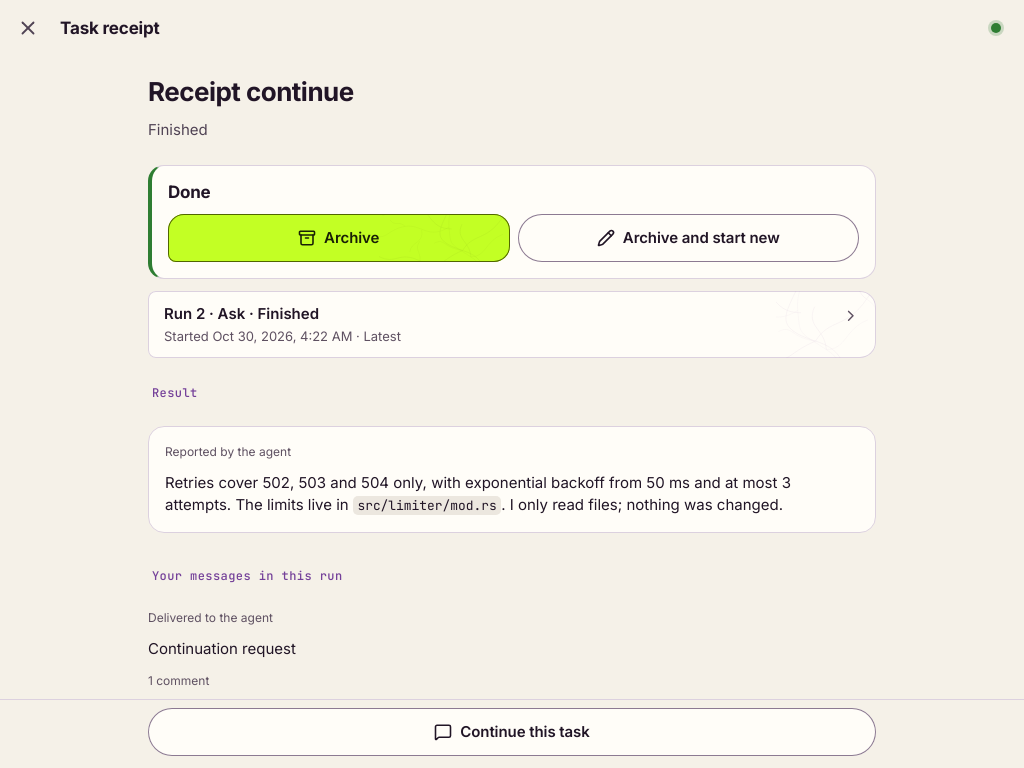
Test case: keeps the annotated request for continue in its own run receipt
This screenshot has width=1024, height=768.
Expected: the text "Continuation request" is shown, x1=148 y1=639 x2=296 y2=658
Click the button with aria-label "Choose a run: showing ": (242, 314) x1=148 y1=291 x2=876 y2=358
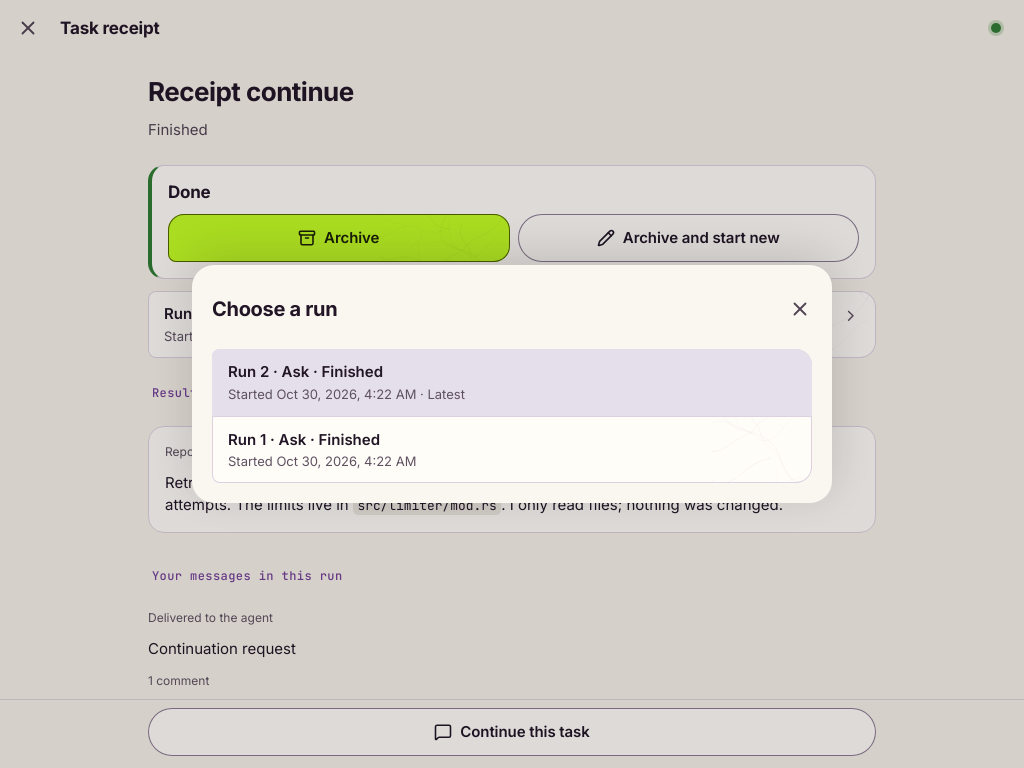
Click the button with aria-label "Run 1, ": (304, 439) x1=212 y1=416 x2=812 y2=483
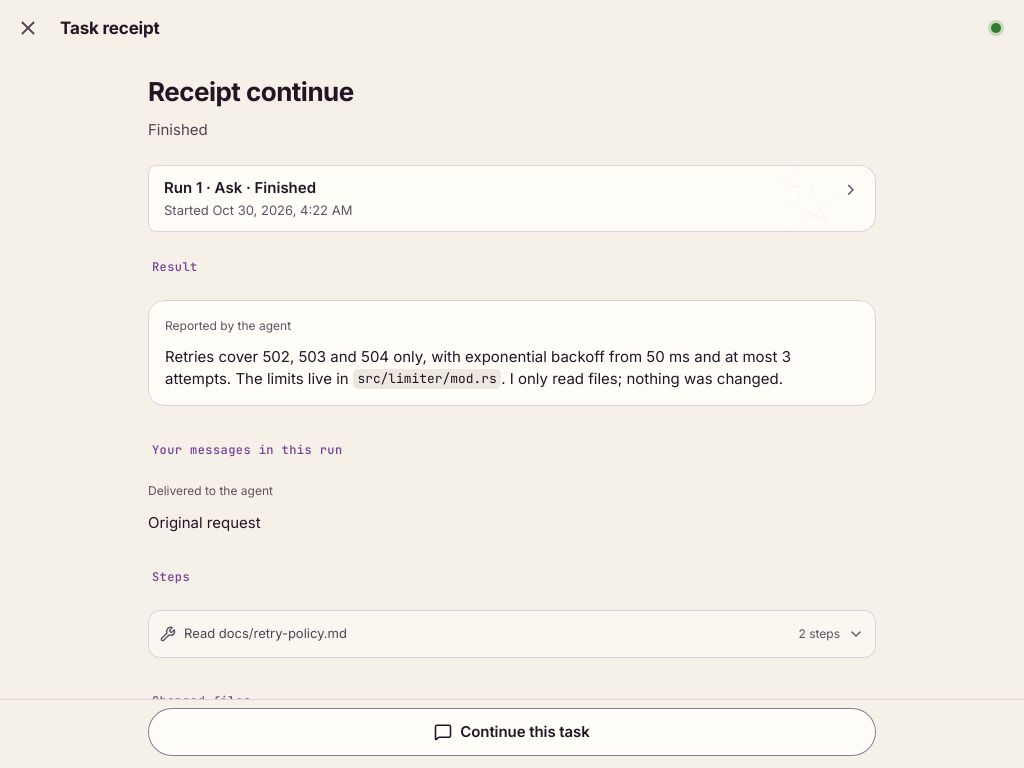
Expected: the text "Original request" is shown, x1=148 y1=513 x2=261 y2=532
